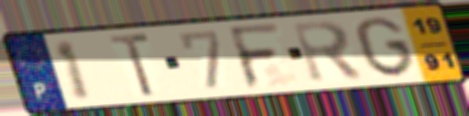1: (53, 38, 92, 103)
7: (174, 28, 225, 92)
F: (225, 21, 285, 91)
G: (352, 15, 418, 79)
R: (289, 18, 368, 86)
T: (106, 31, 158, 99)
